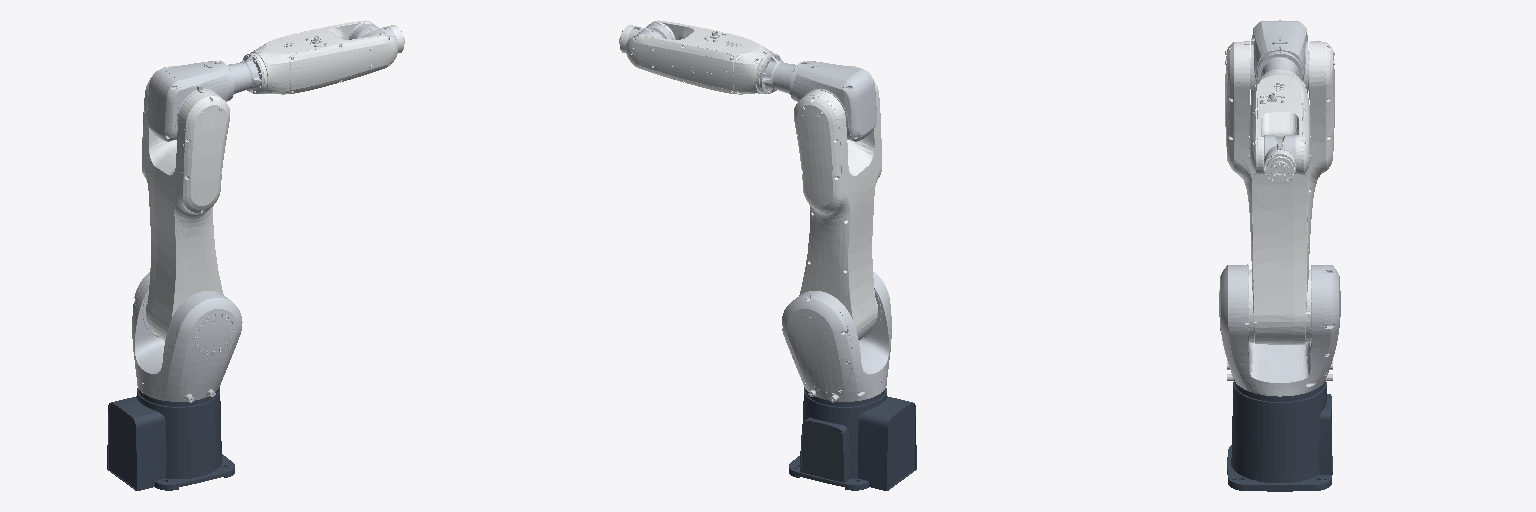
URDF robot description (IR-R10-110S5-C1H-INT_01741036):
<?xml version="1.0"?>
<!-- Firmware source: params_package/Standard/Body/IR-R10-110S5-C1H-INT_01741036/IR-R10-110S5-C1H-INT_01741036.json; SHA256 45adf831dbd6a42cc15026c5febc187e1560fde44d07cbaa777fc9cd8b315c6a. -->
<!-- Z-up; STL mm scaled to m. Effective firmware mass properties are SI and transformed into CAD link frames. -->
<!-- Revolute effort is nominal output torque; prismatic effort is ideal screw force. See physics-audit.json for approximations. -->
<robot name="IR-R10-110S5-C1H-INT_01741036">
  <link name="base_link">

    <visual name="base">
      <origin xyz="0 0 0" rpy="0 0 0"/>
      <geometry>
        <mesh filename="../models/IR-R10-110/P0.stl" scale="0.001 0.001 0.001"/>
      </geometry>
      <material name="base_material">
        <color rgba="0.31 0.35 0.41 1"/>
      </material>
    </visual>
    <collision name="base_collision">
      <origin xyz="0 0 0" rpy="0 0 0"/>
      <geometry>
        <mesh filename="../models/IR-R10-110/P0.stl" scale="0.001 0.001 0.001"/>
      </geometry>
    </collision>
  </link>

  <link name="link_1">

    <!-- inertial source: bounding-box-fallback -->
    <!-- Effective firmware principal moments are not physically realizable; no unit guessing applied -->
    <inertial>
      <origin xyz="0.007948215485 -0.000000137329 0.354809692383" rpy="0 0 0"/>
      <mass value="10.182811708"/>
      <inertia ixx="0.119922180313" ixy="0" ixz="0" iyy="0.101224849261" iyz="0" izz="0.09777376717"/>
    </inertial>

    <visual name="link_1">
      <origin xyz="0 0 0" rpy="0 0 0"/>
      <geometry>
        <mesh filename="../models/IR-R10-110/P1.stl" scale="0.001 0.001 0.001"/>
      </geometry>
      <material name="link_1_material">
        <color rgba="0.84 0.86 0.89 1"/>
      </material>
    </visual>
    <collision name="link_1_collision">
      <origin xyz="0 0 0" rpy="0 0 0"/>
      <geometry>
        <mesh filename="../models/IR-R10-110/P1.stl" scale="0.001 0.001 0.001"/>
      </geometry>
    </collision>
  </link>

  <link name="link_2">

    <!-- inertial source: firmware-effective-si -->
    <inertial>
      <origin xyz="-0.0063551041 -0.025691483 0.1451788886" rpy="0 0 0"/>
      <mass value="15.7569518526"/>
      <inertia ixx="0.7395372385" ixy="0" ixz="0" iyy="0.752390289" iyz="0" izz="0.0776941586"/>
    </inertial>

    <visual name="link_2">
      <origin xyz="-0.025 0 -0.4" rpy="0 0 0"/>
      <geometry>
        <mesh filename="../models/IR-R10-110/P2.stl" scale="0.001 0.001 0.001"/>
      </geometry>
      <material name="link_2_material">
        <color rgba="0.94 0.95 0.96 1"/>
      </material>
    </visual>
    <collision name="link_2_collision">
      <origin xyz="-0.025 0 -0.4" rpy="0 0 0"/>
      <geometry>
        <mesh filename="../models/IR-R10-110/P2.stl" scale="0.001 0.001 0.001"/>
      </geometry>
    </collision>
  </link>

  <link name="link_3">

    <!-- inertial source: firmware-effective-si -->
    <inertial>
      <origin xyz="0.0077329372 -0.0116418281 0.0095832628" rpy="0 0 0"/>
      <mass value="4.9193866543"/>
      <inertia ixx="0.018652974" ixy="0" ixz="0" iyy="0.0243223636" iyz="0" izz="0.0181159716"/>
    </inertial>

    <visual name="link_3">
      <origin xyz="-0.025 0 -0.96" rpy="0 0 0"/>
      <geometry>
        <mesh filename="../models/IR-R10-110/P3.stl" scale="0.001 0.001 0.001"/>
      </geometry>
      <material name="link_3_material">
        <color rgba="0.84 0.86 0.89 1"/>
      </material>
    </visual>
    <collision name="link_3_collision">
      <origin xyz="-0.025 0 -0.96" rpy="0 0 0"/>
      <geometry>
        <mesh filename="../models/IR-R10-110/P3.stl" scale="0.001 0.001 0.001"/>
      </geometry>
    </collision>
  </link>

  <link name="link_4">

    <!-- inertial source: bounding-box-fallback -->
    <!-- Effective firmware principal moments are not physically realizable; no unit guessing applied -->
    <inertial>
      <origin xyz="0.372625091553 -0.000000003815 0.005636199951" rpy="0 0 0"/>
      <mass value="6.7627694796"/>
      <inertia ixx="0.018404306423" ixy="0" ixz="0" iyy="0.086798277748" iyz="0" izz="0.088632688425"/>
    </inertial>

    <visual name="link_4">
      <origin xyz="-0.025 0 -1" rpy="0 0 0"/>
      <geometry>
        <mesh filename="../models/IR-R10-110/P4.stl" scale="0.001 0.001 0.001"/>
      </geometry>
      <material name="link_4_material">
        <color rgba="0.94 0.95 0.96 1"/>
      </material>
    </visual>
    <collision name="link_4_collision">
      <origin xyz="-0.025 0 -1" rpy="0 0 0"/>
      <geometry>
        <mesh filename="../models/IR-R10-110/P4.stl" scale="0.001 0.001 0.001"/>
      </geometry>
    </collision>
  </link>

  <link name="link_5">

    <!-- inertial source: bounding-box-fallback -->
    <!-- Effective firmware principal moments are not physically realizable; no unit guessing applied -->
    <inertial>
      <origin xyz="0.003750061035 -0.002399997711 -0.000990966797" rpy="0 0 0"/>
      <mass value="1.4016606233"/>
      <inertia ixx="0.001503105882" ixy="0" ixz="0" iyy="0.001883473607" iyz="0" izz="0.001618464002"/>
    </inertial>

    <visual name="link_5">
      <origin xyz="-0.54 0 -1" rpy="0 0 0"/>
      <geometry>
        <mesh filename="../models/IR-R10-110/P5.stl" scale="0.001 0.001 0.001"/>
      </geometry>
      <material name="link_5_material">
        <color rgba="0.84 0.86 0.89 1"/>
      </material>
    </visual>
    <collision name="link_5_collision">
      <origin xyz="-0.54 0 -1" rpy="0 0 0"/>
      <geometry>
        <mesh filename="../models/IR-R10-110/P5.stl" scale="0.001 0.001 0.001"/>
      </geometry>
    </collision>
  </link>

  <link name="link_6">

    <!-- inertial source: firmware-effective-si -->
    <inertial>
      <origin xyz="-0.0094395108 0 0" rpy="0 0 0"/>
      <mass value="0.3811634537"/>
      <inertia ixx="0.00023504" ixy="0" ixz="0" iyy="0.0001702" iyz="0" izz="0.0001703"/>
    </inertial>

    <visual name="link_6">
      <origin xyz="-0.62 0 -1" rpy="0 0 0"/>
      <geometry>
        <mesh filename="../models/IR-R10-110/P6.stl" scale="0.001 0.001 0.001"/>
      </geometry>
      <material name="link_6_material">
        <color rgba="0.94 0.95 0.96 1"/>
      </material>
    </visual>
    <collision name="link_6_collision">
      <origin xyz="-0.62 0 -1" rpy="0 0 0"/>
      <geometry>
        <mesh filename="../models/IR-R10-110/P6.stl" scale="0.001 0.001 0.001"/>
      </geometry>
    </collision>
  </link>

  <joint name="J1" type="revolute">
    <parent link="base_link"/>
    <child link="link_1"/>
    <origin xyz="0 0 0" rpy="0 0 0"/>
    <axis xyz="0 0 1"/>
    <limit lower="-2.96705972839" upper="2.96705972839" effort="286.8" velocity="4.188790204786"/>
  </joint>

  <joint name="J2" type="revolute">
    <parent link="link_1"/>
    <child link="link_2"/>
    <origin xyz="0.025 0 0.4" rpy="0 0 0"/>
    <axis xyz="0 -1 0"/>
    <limit lower="-2.356194490192" upper="1.745329251994" effort="384.79" velocity="3.14159265359"/>
  </joint>

  <joint name="J3" type="revolute">
    <parent link="link_2"/>
    <child link="link_3"/>
    <origin xyz="0 0 0.56" rpy="0 0 0"/>
    <axis xyz="0 -1 0"/>
    <limit lower="-1.151917306316" upper="3.665191429188" effort="180" velocity="5.759586531581"/>
  </joint>

  <joint name="J4" type="revolute">
    <parent link="link_3"/>
    <child link="link_4"/>
    <origin xyz="0 0 0.04" rpy="0 0 0"/>
    <axis xyz="1 0 0"/>
    <limit lower="-3.316125578789" upper="3.316125578789" effort="39.999984" velocity="7.853981633974"/>
  </joint>

  <joint name="J5" type="revolute">
    <parent link="link_4"/>
    <child link="link_5"/>
    <origin xyz="0.515 0 0" rpy="0 0 0"/>
    <axis xyz="0 -1 0"/>
    <limit lower="-2.181661564993" upper="2.181661564993" effort="38.4" velocity="7.330382858376"/>
  </joint>

  <joint name="J6" type="revolute">
    <parent link="link_5"/>
    <child link="link_6"/>
    <origin xyz="0.08 0 0" rpy="0 0 0"/>
    <axis xyz="1 0 0"/>
    <limit lower="-6.28318530718" upper="6.28318530718" effort="14.5" velocity="12.566370614359"/>
  </joint>

  <link name="tool0"/>
  <joint name="tool0_fixed" type="fixed">
    <parent link="link_6"/>
    <child link="tool0"/>
    <origin xyz="0 0 0" rpy="3.14159265359 -1.570796326795 0"/>
  </joint>
</robot>

--- Facts derived from the render (not from the file) ---
3 views of the same robot in one strip: view 1: azimuth 30°, elevation 25°; view 2: azimuth 150°, elevation 25°; view 3: azimuth 270°, elevation 25° (orthographic).
Robot: IR-R10-110S5-C1H-INT_01741036 — 8 links, 7 joints (6 revolute, 1 fixed); root link base_link; default pose: all joints at 0.
Visible links, largest first — view 1: link_2, base_link, link_1, link_4, link_3; view 2: link_2, base_link, link_1, link_4, link_3; view 3: link_2, base_link, link_1, link_4, link_3, link_6, link_5.
Link boxes in pixels (x1,y1,x2,y2): link_2: [142, 66, 229, 340]; base_link: [107, 387, 234, 490]; link_1: [132, 272, 242, 402]; link_4: [250, 20, 397, 94]; link_3: [147, 54, 263, 141]; link_2: [794, 66, 881, 339]; base_link: [789, 387, 916, 490]; link_1: [782, 271, 891, 402]; link_4: [626, 20, 773, 94]; link_3: [760, 54, 876, 141]; link_2: [1225, 41, 1334, 344]; base_link: [1227, 381, 1332, 491]; link_1: [1219, 264, 1340, 396]; link_4: [1249, 69, 1310, 174]; link_3: [1250, 20, 1308, 97]; link_6: [1264, 150, 1295, 182]; link_5: [1264, 135, 1295, 173].
Size in the robot's own frame: 0.778 by 0.262 by 1.07 metres.
7 mesh visuals loaded from 7 distinct referenced files (7 binary STL).
